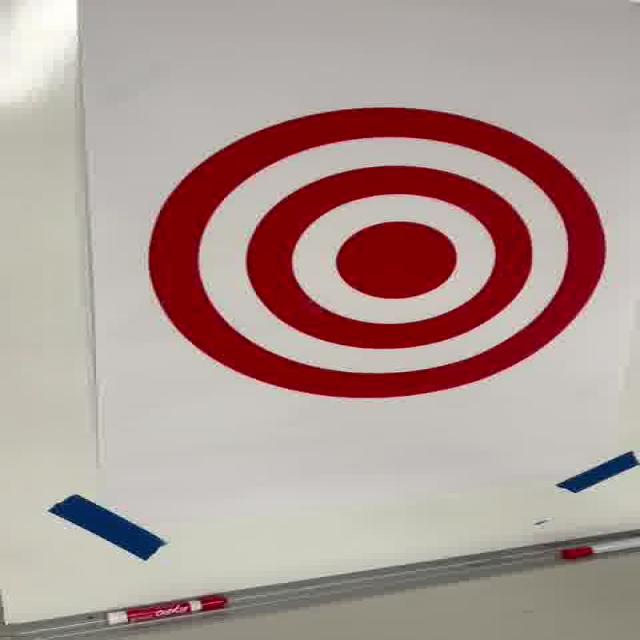target_red: (149, 108, 607, 398)
